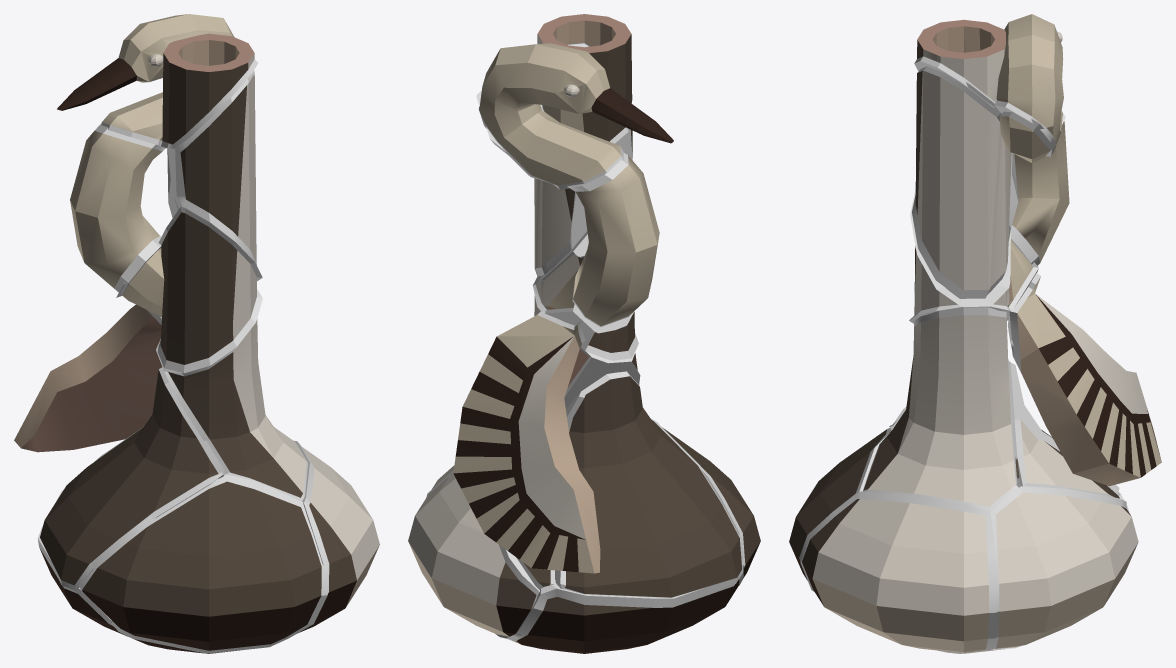
Rendered from v12_heron.fbx.
3 renders of one model, left to right at view 1: azimuth 30°, elevation 25°; view 2: azimuth 150°, elevation 25°; view 3: azimuth 270°, elevation 25°, orthographic. The views are drawn at different scales.
Parts seen in each view (by area): view 1: shard4, shard3, shard8, shard2, shard11, shard5, shard7, shard9, shard6, gold4, gold9, gold11 (+6 smaller); view 2: shard2, shard3, shard8, shard1, shard7, shard10, shard9, gold10, shard11, gold11, shard4, gold5 (+5 smaller); view 3: shard6, shard5, shard9, shard1, shard2, shard8, shard7, shard4, gold9, gold6, shard12, shard11 (+8 smaller).
Boxes of the visible parts, x1,y1,x2,y2 form: shard4: (82,481,321,650); shard3: (40,370,218,585); shard8: (57,14,254,144); shard2: (14,304,162,452); shard11: (122,212,256,364); shard5: (168,319,306,497); shard7: (70,130,162,288); shard9: (180,74,256,262); shard6: (299,447,379,632); gold4: (79,474,328,653); gold9: (167,70,256,265); gold11: (116,207,262,373); shard2: (453,315,600,573); shard3: (565,376,741,597); shard8: (479,14,673,185); shard1: (408,473,536,636); shard7: (573,155,659,325); shard10: (510,579,739,653); shard9: (534,130,632,268); gold10: (496,571,743,640); shard11: (535,253,634,352); gold11: (532,232,638,360); shard4: (662,427,760,577); gold5: (540,311,640,408); shard6: (802,499,988,653); shard5: (864,315,1015,506); shard9: (915,70,1050,290); shard1: (996,492,1138,648); shard2: (1017,277,1161,486); shard8: (917,14,1063,150); shard7: (1012,121,1069,262); shard4: (789,429,886,580); gold9: (912,66,1056,298); gold6: (801,491,996,650); shard12: (1020,419,1119,498); shard11: (914,240,1033,314).
Bounding box in the file's own units: 8.98 × 16.78 × 9.58.
